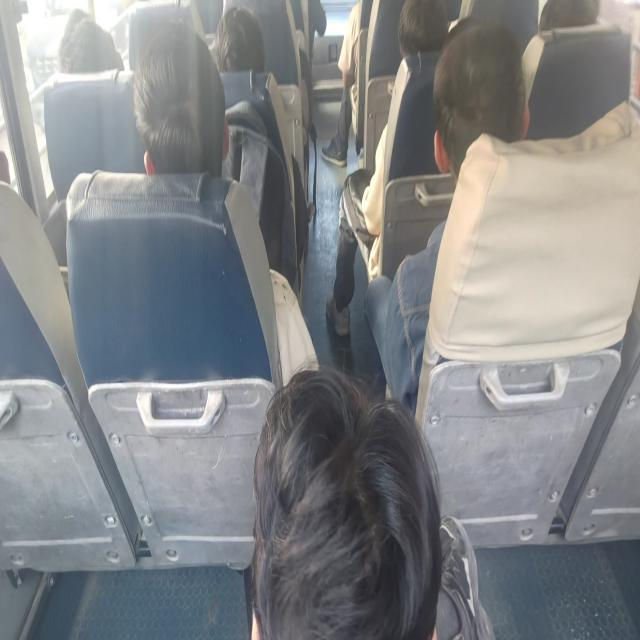person: (246, 354, 442, 640), (136, 38, 228, 175), (432, 44, 516, 178), (48, 0, 122, 80), (393, 0, 461, 65), (214, 0, 260, 75), (529, 0, 609, 36)
